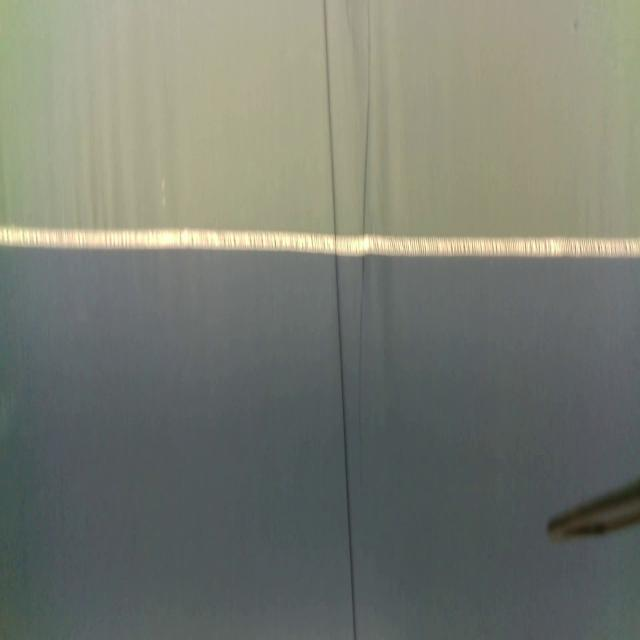crease: (322, 0, 357, 640), (356, 0, 374, 352)
